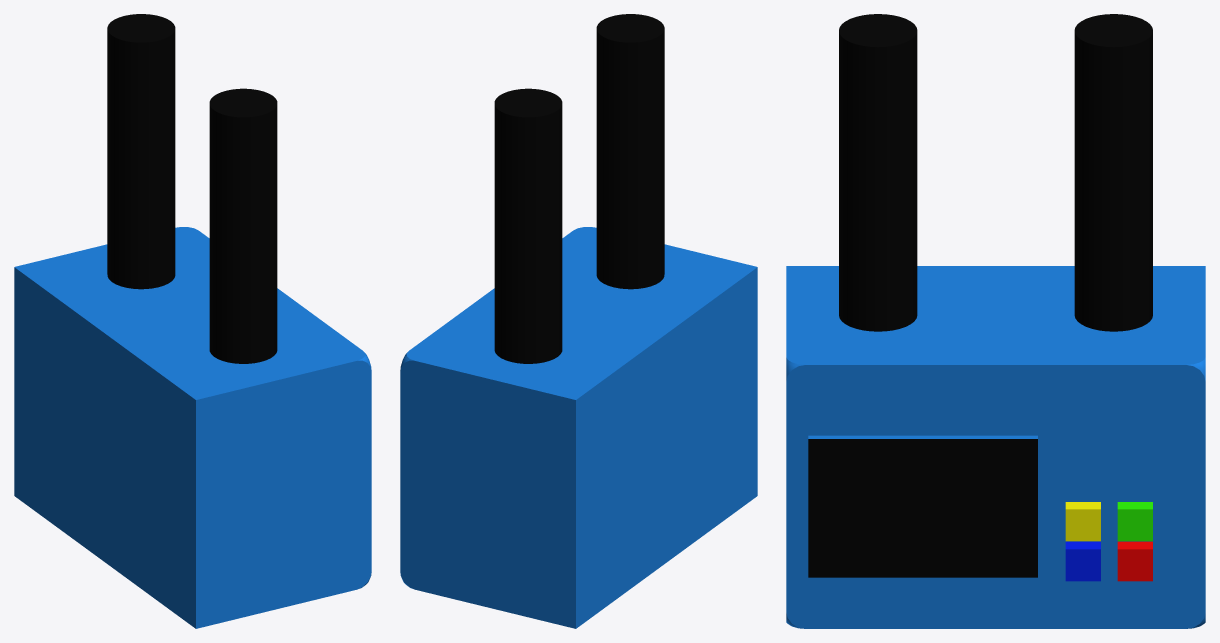
The model's file is OxygenObject.fbx.
3 views of the same model, side by side, from view 1: azimuth 30°, elevation 25°; view 2: azimuth 150°, elevation 25°; view 3: azimuth 270°, elevation 25° (orthographic). The views are drawn at different scales.
Parts seen in each view (by area): view 1: OxygenObjectMesh; view 2: OxygenObjectMesh; view 3: OxygenObjectMesh.
Boxes of the visible parts, <box> form: OxygenObjectMesh: <box>14,14,371,628</box>; OxygenObjectMesh: <box>400,14,757,628</box>; OxygenObjectMesh: <box>786,14,1205,628</box>.
Bounding box in the file's own units: 6.41 × 15.41 × 10.68.
